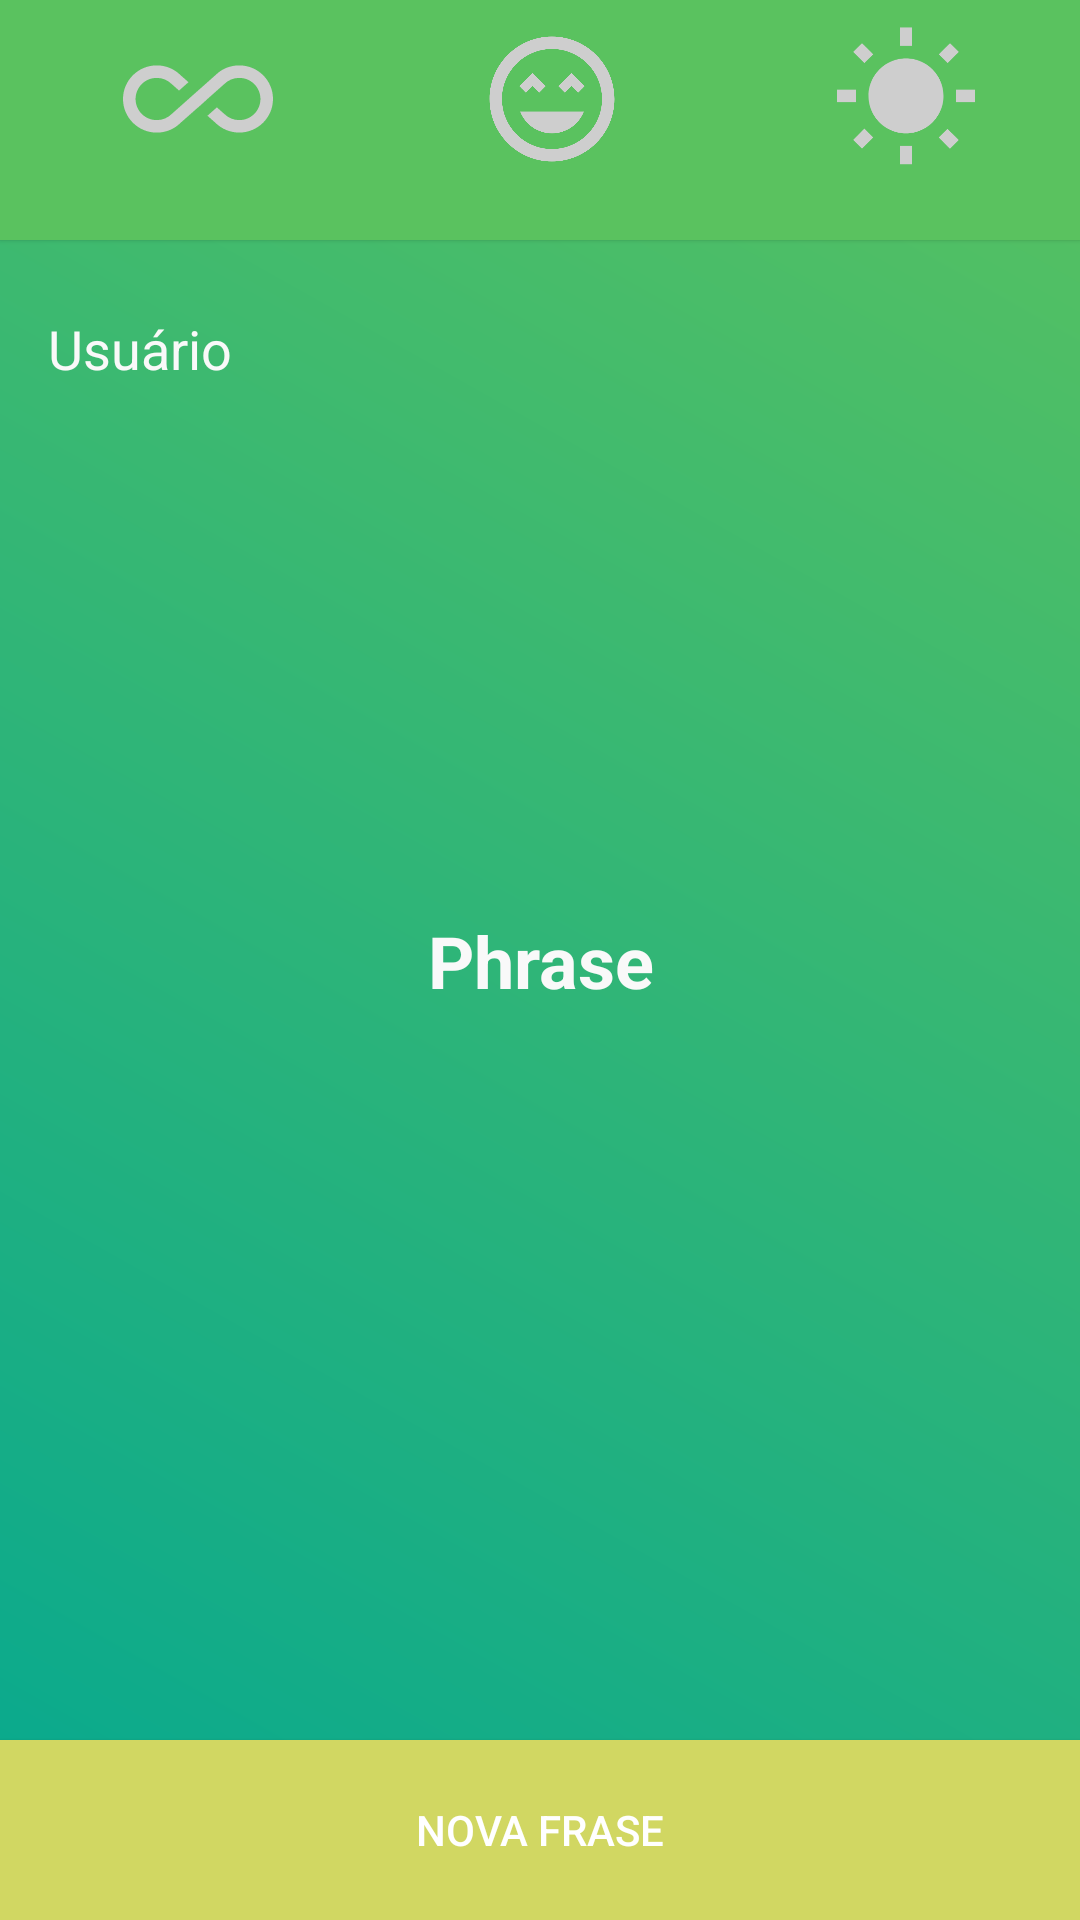

Icons on this 1080 x 1920 Android screen, each with the point to tap as point (x, y):
all: point (198, 99)
happy: point (552, 99)
sun: point (906, 96)
